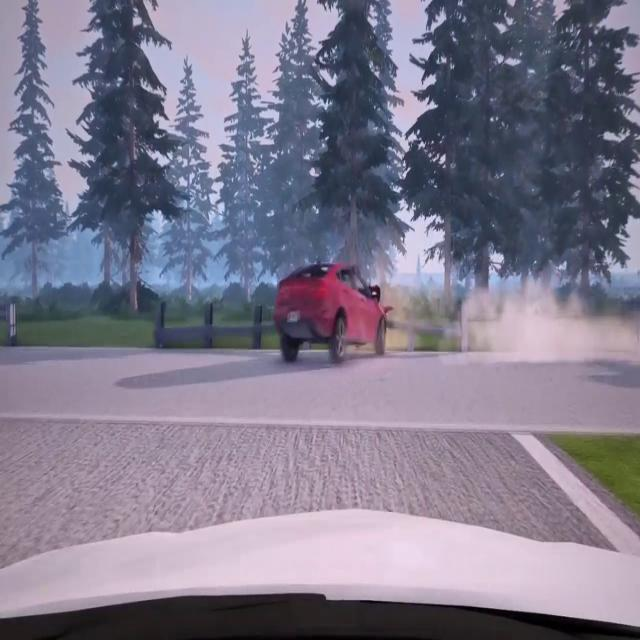accident: (257, 252, 410, 380)
